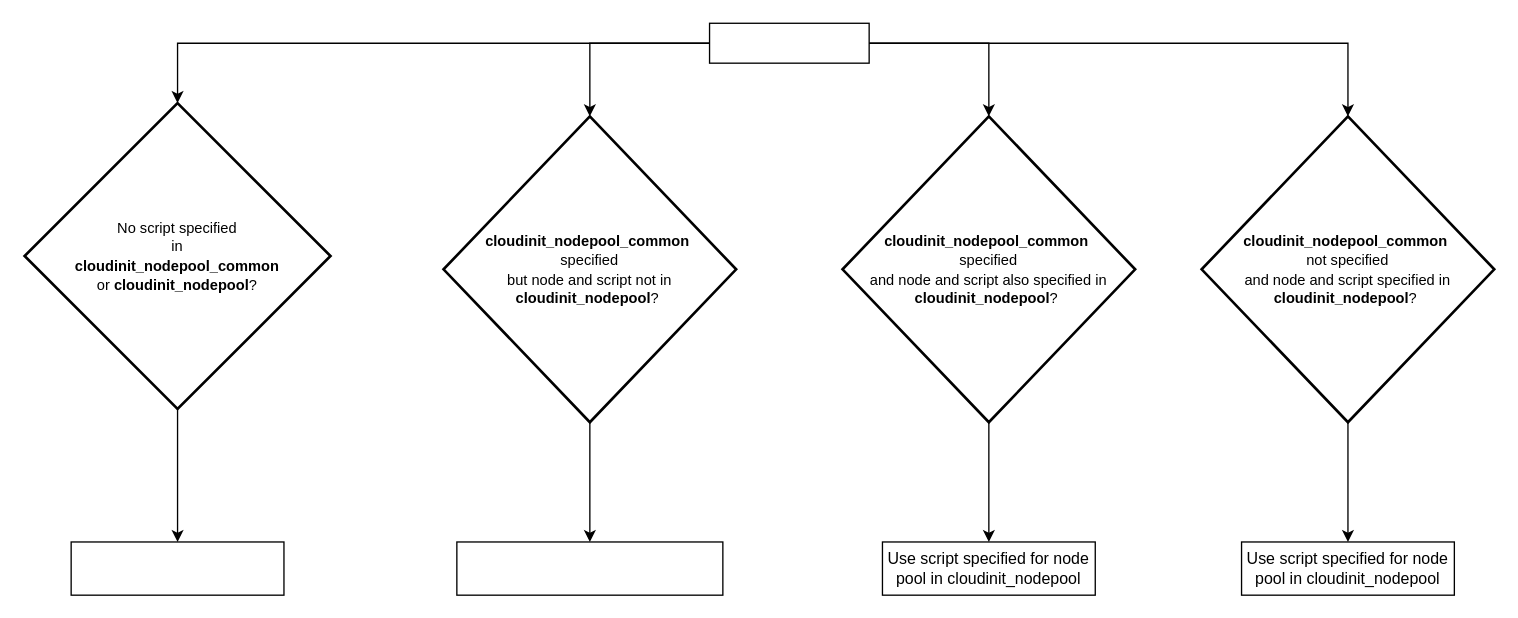
This 1518x618 diagram has some shape labels left out. Each missing label, with the centre of its shape:
"Node pool" belongs at [788,42].
"Use default worker.template.sh" belongs at [177,568].
"Use script specified in cloudinit_nodepool_common" belongs at [589,568].
